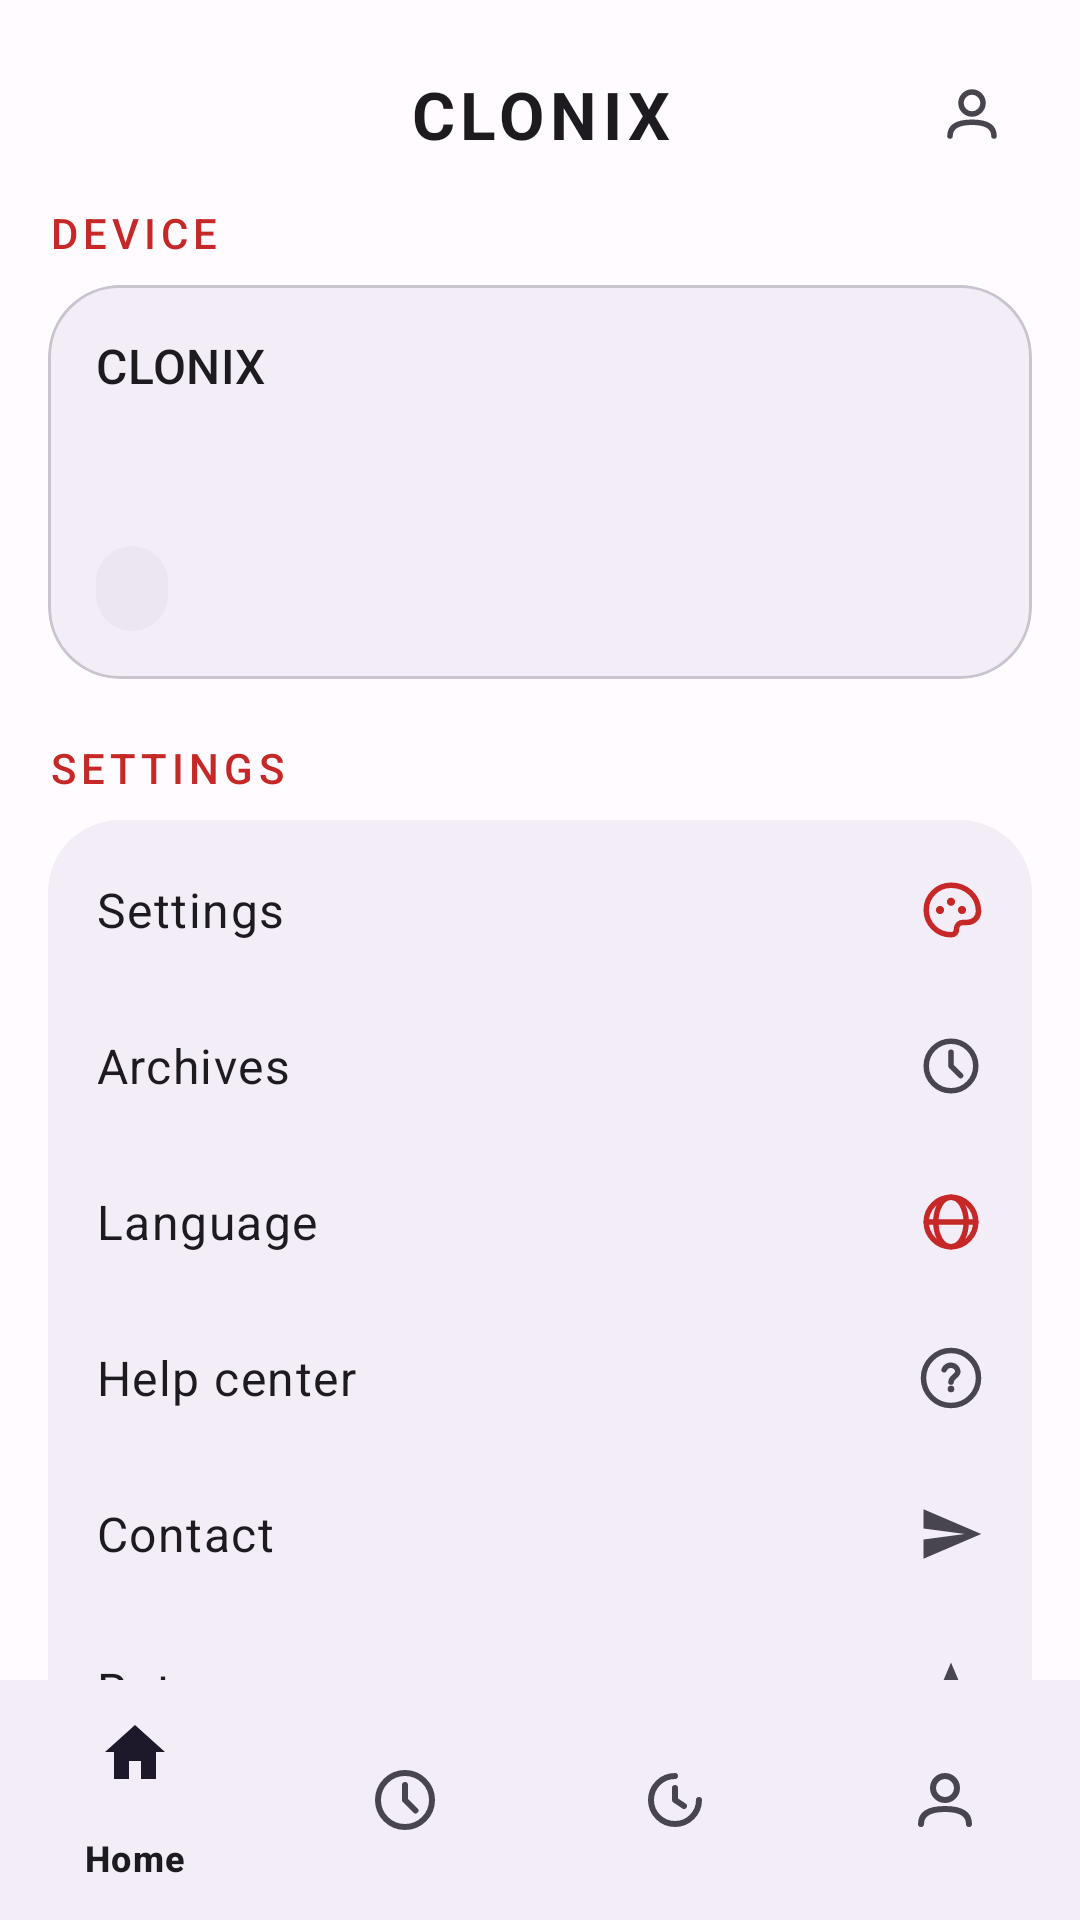

Named icons in this screenshot (1080px×1920px) and their centers, (x=x, y=y):
account: (x=972, y=114)
send: (x=952, y=1534)
set globe: (x=951, y=1222)
set palette: (x=952, y=910)
